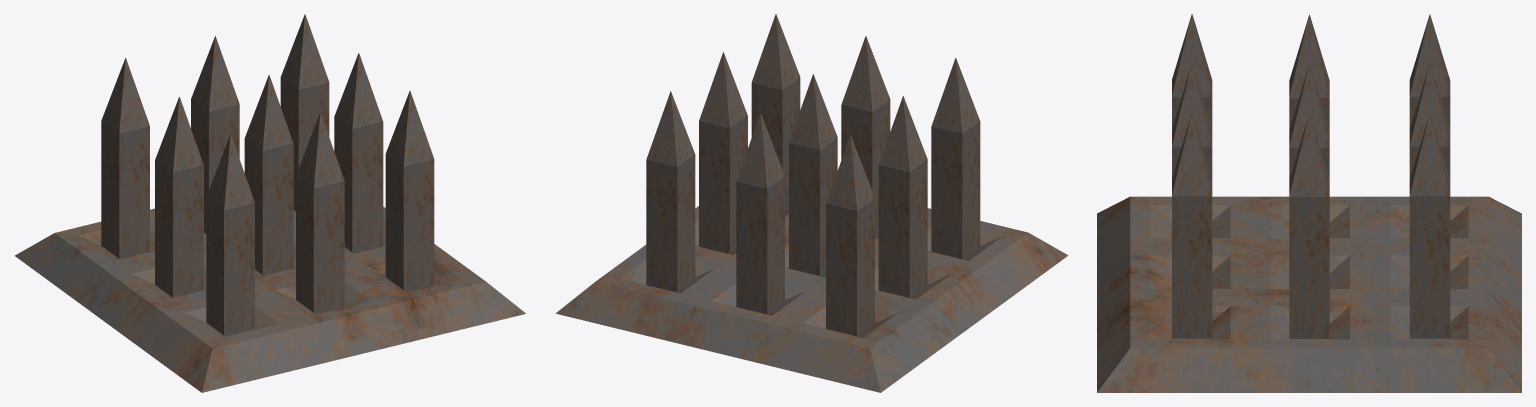
Rendered from spikes.gltf.
3 views of the same model, side by side, from view 1: azimuth 30°, elevation 25°; view 2: azimuth 150°, elevation 25°; view 3: azimuth 270°, elevation 25° (orthographic). The views are drawn at different scales.
Visible parts, largest first — view 1: spikes-col, spikesbottom-col; view 2: spikes-col, spikesbottom-col; view 3: spikesbottom-col, spikes-col.
Boxes of the visible parts, <box> form: spikes-col: <box>101,14,434,335</box>; spikesbottom-col: <box>15,206,525,392</box>; spikes-col: <box>646,14,980,336</box>; spikesbottom-col: <box>556,206,1068,392</box>; spikesbottom-col: <box>1097,196,1521,392</box>; spikes-col: <box>1172,14,1450,338</box>.
Size of the model in its own units: 2 by 1.24 by 2.
1 material, 1 textured.
